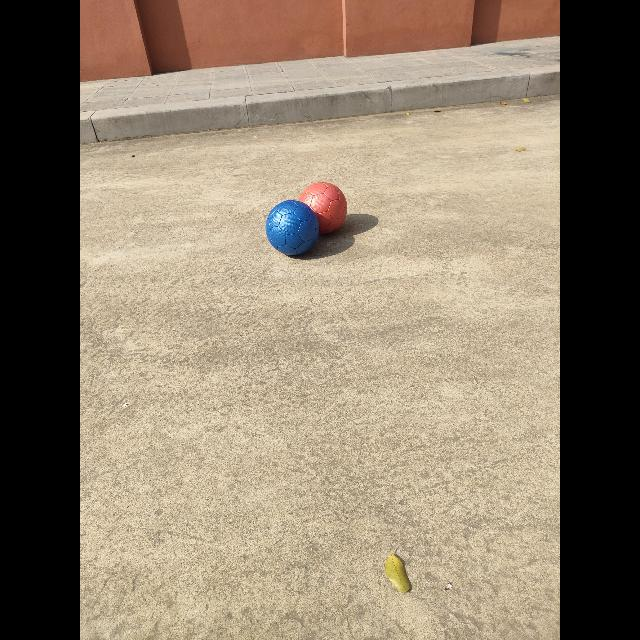B: (265, 200, 320, 255)
R: (299, 182, 348, 234)
